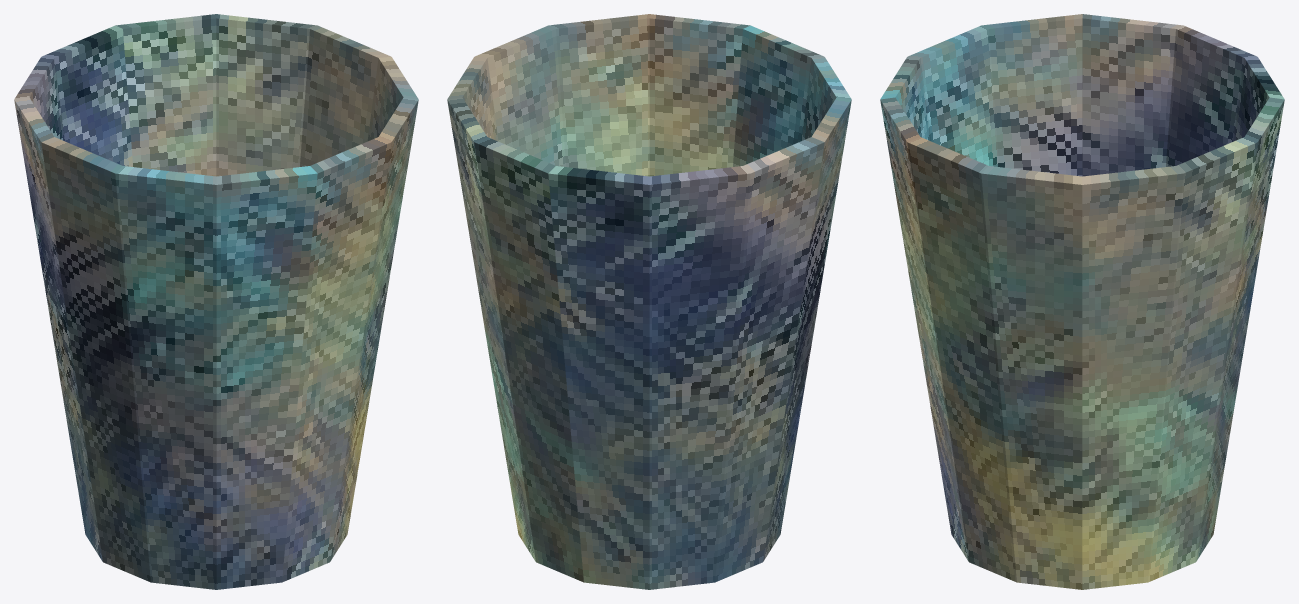
Rendered from glass.glb.
The picture shows the model from 3 angles, left to right: view 1: azimuth 30°, elevation 25°; view 2: azimuth 150°, elevation 25°; view 3: azimuth 270°, elevation 25°; orthographic projection.
Visible parts, largest first — view 1: glass; view 2: glass; view 3: glass.
Boxes of the visible parts, box(x1,y1,x2,y2) form: glass: box(14, 14, 418, 589); glass: box(447, 14, 851, 589); glass: box(880, 14, 1284, 589).
Size of the model in its own units: 0.8128 by 0.9688 by 0.8128.
Materials: 1 (1 with a texture image).
